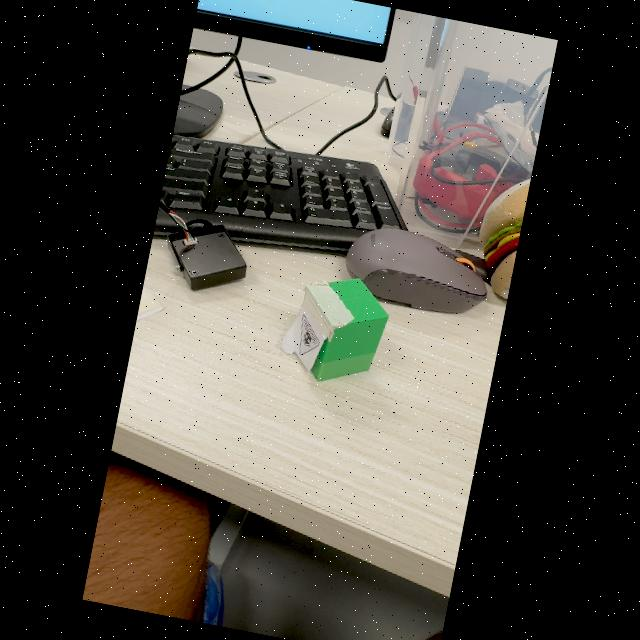Tsunami: (299, 314, 320, 356)
